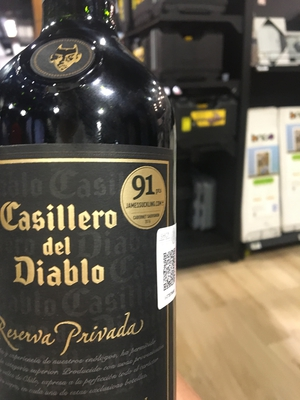casillero del diablo reserva privada cabernet sauvignon: (2, 22, 179, 400)
